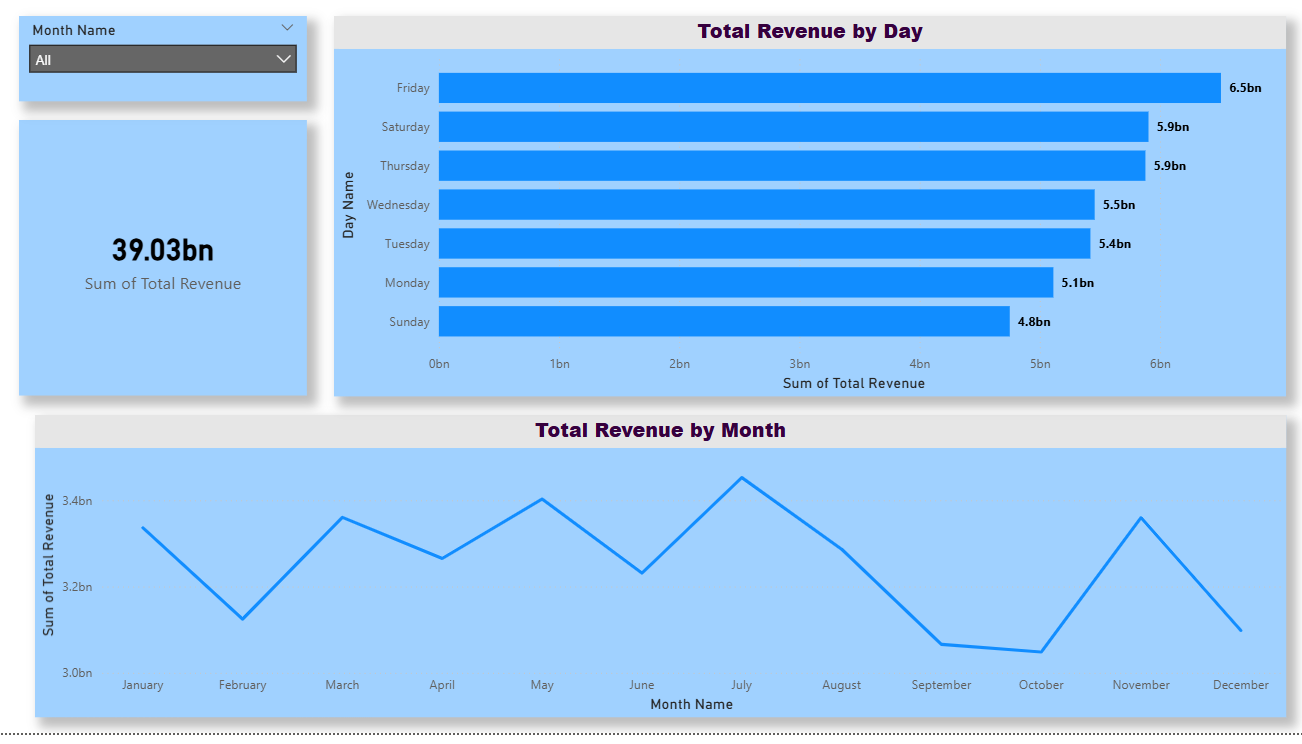

The dashboard page shown, as its layout file describes it:
{"tool":"powerbi","page":{"name":"Revenue / Seasonality","canvas":[1280,720],"ordinal":2},"visuals":[{"type":"card","fields":{"Values":["Sum(Order_Details.Total Revenue)"]},"box":[22.4,123.5,280.1,268.4],"z":0},{"type":"lineChart","title":" Total Revenue by Month","fields":{"Category":["Orders.Month Name"],"Y":["Sum(Order_Details.Total Revenue)"]},"box":[37.9,410.5,1216.8,293.7],"z":1000},{"type":"barChart","title":" Total Revenue by Day","fields":{"Category":["Orders.Day Name"],"Y":["Sum(Order_Details.Total Revenue)"]},"box":[328.8,22.4,926,369.6],"z":2000},{"type":"slicer","fields":{"Values":["Orders.Month Name"]},"box":[22.4,22.4,280.1,82.7],"z":3000}]}

Visuals, with their boxes in screenshot pixels (x1, y1, x2, y2), scaled from the page's 1280x720 canvas onto the 1302x744 screenshot:
card - Sum(Order_Details.Total Revenue): {"left": 23, "top": 128, "right": 308, "bottom": 405}
" Total Revenue by Month" lineChart: {"left": 39, "top": 424, "right": 1276, "bottom": 728}
" Total Revenue by Day" barChart: {"left": 334, "top": 23, "right": 1276, "bottom": 405}
slicer - Orders.Month Name: {"left": 23, "top": 23, "right": 308, "bottom": 109}
